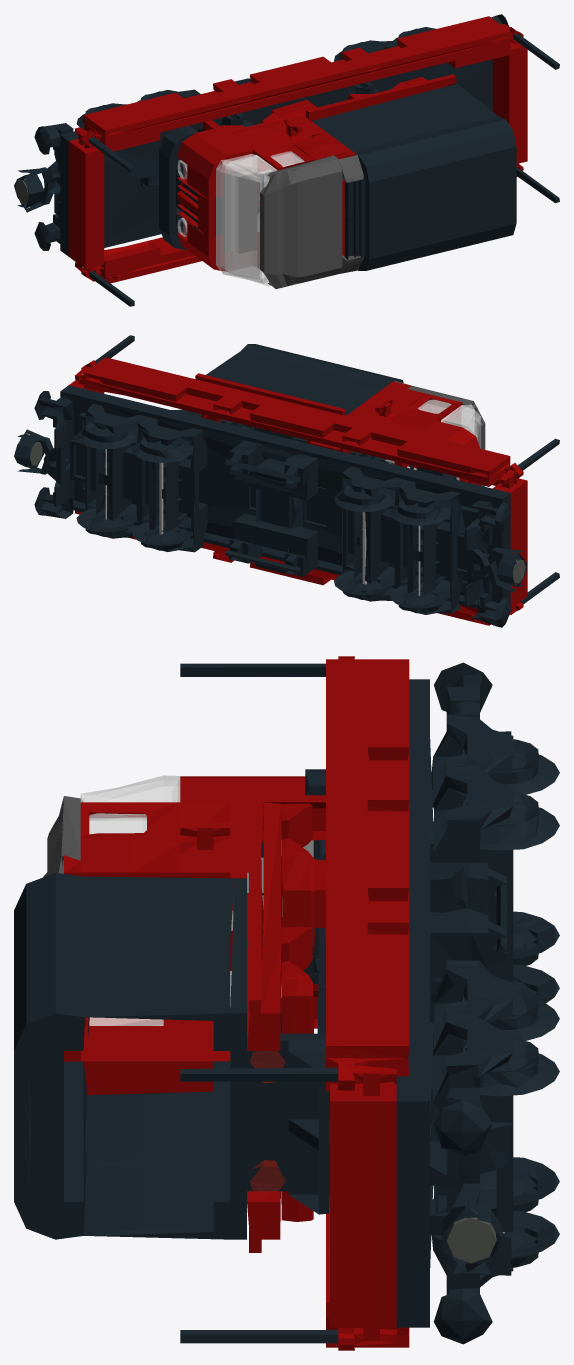
The model's file is flatcar-with-truck.glb.
The picture shows the model from 3 angles, top to bottom: view 1: azimuth 30°, elevation 25°; view 2: azimuth 150°, elevation 25°; view 3: azimuth 270°, elevation 25°; orthographic projection. The views are drawn at different scales.
Size of the model in its own units: 216 by 64 by 105.
